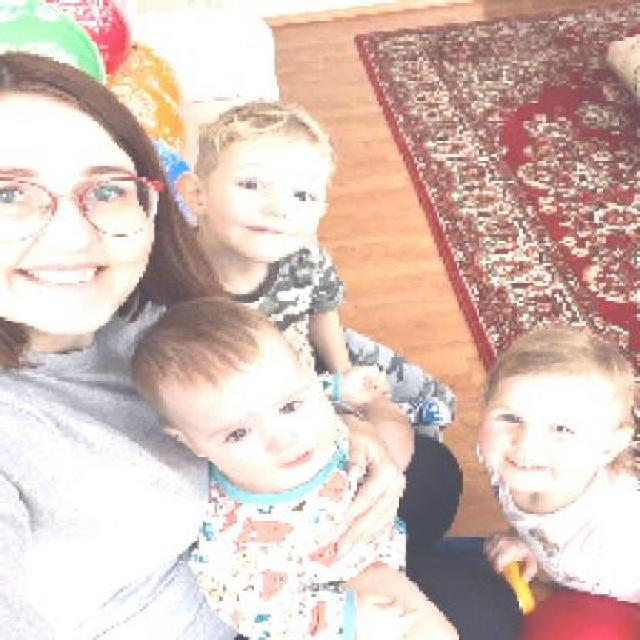child: (128, 297, 414, 637), (174, 94, 457, 434), (480, 323, 640, 637)
